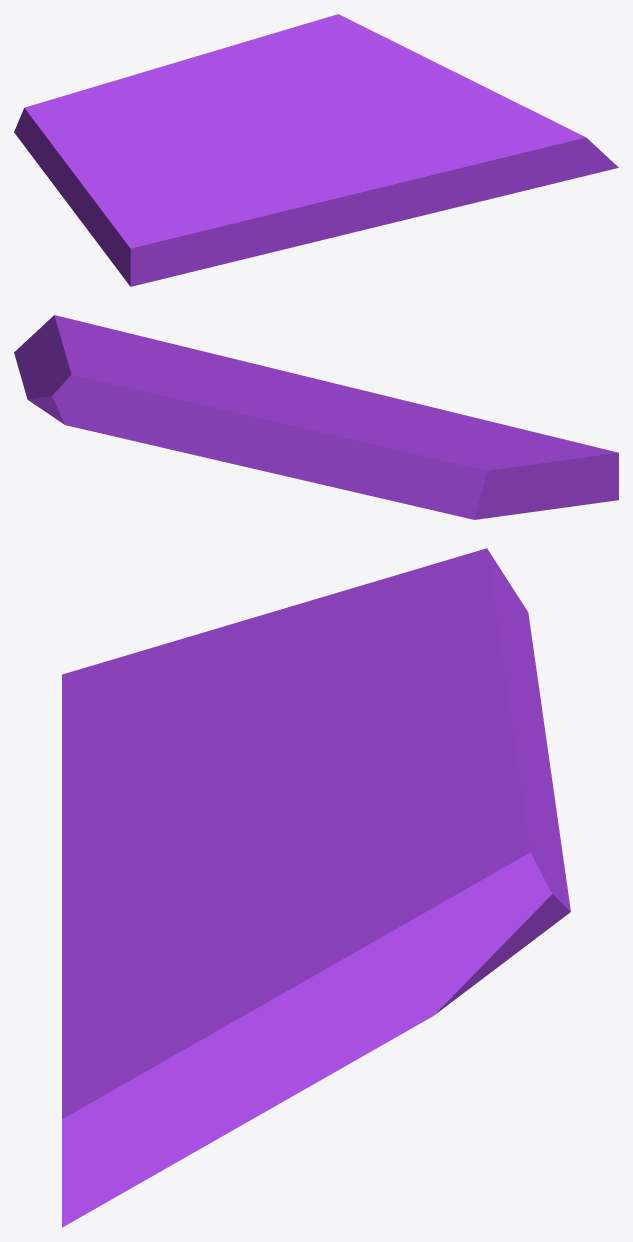
The model's file is Window_137_0_chunks.fbx.
The picture shows the model from 3 angles, top to bottom: view 1: azimuth 30°, elevation 25°; view 2: azimuth 150°, elevation 25°; view 3: azimuth 270°, elevation 25°; orthographic projection. The views are drawn at different scales.
Parts seen in each view (by area): view 1: Window_137_0_7, Window_137_0_1, Window_137_0_6, Window_137_0_0, Window_137_0_15, Window_137_0_20, Window_137_0_11, Window_137_0_4, Window_137_0_19, Window_137_0_12, Window_137_0_13, Window_137_0_9 (+7 smaller); view 2: Window_137_0_1, Window_137_0_4, Window_137_0_7, Window_137_0_12, Window_137_0_8, Window_137_0_0, Window_137_0_2, Window_137_0_15, Window_137_0_6, Window_137_0_16, Window_137_0_17, Window_137_0_9 (+8 smaller); view 3: Window_137_0_7, Window_137_0_1, Window_137_0_17, Window_137_0_16, Window_137_0_15, Window_137_0_0, Window_137_0_4, Window_137_0_8, Window_137_0_6, Window_137_0_9, Window_137_0_13, Window_137_0_12 (+9 smaller).
Part boxes in pixels (x1=…): Window_137_0_7: x1=33, y1=120, x2=238, y2=225; Window_137_0_1: x1=14, y1=62, x2=204, y2=157; Window_137_0_6: x1=237, y1=135, x2=405, y2=242; Window_137_0_0: x1=196, y1=88, x2=392, y2=184; Window_137_0_15: x1=420, y1=87, x2=618, y2=180; Window_137_0_20: x1=356, y1=134, x2=474, y2=219; Window_137_0_11: x1=116, y1=226, x2=267, y2=286; Window_137_0_4: x1=177, y1=17, x2=328, y2=83; Window_137_0_19: x1=446, y1=135, x2=564, y2=209; Window_137_0_12: x1=84, y1=178, x2=187, y2=267; Window_137_0_13: x1=164, y1=179, x2=286, y2=235; Window_137_0_9: x1=315, y1=64, x2=427, y2=130; Window_137_0_1: x1=258, y1=418, x2=513, y2=519; Window_137_0_4: x1=68, y1=377, x2=294, y2=459; Window_137_0_7: x1=347, y1=412, x2=572, y2=516; Window_137_0_12: x1=460, y1=431, x2=616, y2=507; Window_137_0_8: x1=44, y1=367, x2=227, y2=424; Window_137_0_0: x1=219, y1=373, x2=361, y2=423; Window_137_0_2: x1=65, y1=415, x2=259, y2=469; Window_137_0_15: x1=14, y1=315, x2=140, y2=363; Window_137_0_6: x1=296, y1=374, x2=398, y2=415; Window_137_0_16: x1=29, y1=351, x2=136, y2=412; Window_137_0_17: x1=17, y1=323, x2=97, y2=373; Window_137_0_9: x1=118, y1=357, x2=250, y2=388; Window_137_0_7: x1=204, y1=573, x2=402, y2=771; Window_137_0_1: x1=350, y1=548, x2=550, y2=768; Window_137_0_17: x1=125, y1=958, x2=372, y2=1174; Window_137_0_16: x1=263, y1=886, x2=514, y2=1006; Window_137_0_15: x1=62, y1=946, x2=279, y2=1227; Window_137_0_0: x1=62, y1=723, x2=361, y2=930; Window_137_0_4: x1=403, y1=696, x2=562, y2=897; Window_137_0_8: x1=322, y1=827, x2=570, y2=960; Window_137_0_6: x1=62, y1=768, x2=283, y2=928; Window_137_0_9: x1=231, y1=841, x2=377, y2=955; Window_137_0_13: x1=62, y1=705, x2=204, y2=826; Window_137_0_12: x1=68, y1=630, x2=211, y2=722.
Bounding box in the file's own units: 1339 × 283 × 604.
